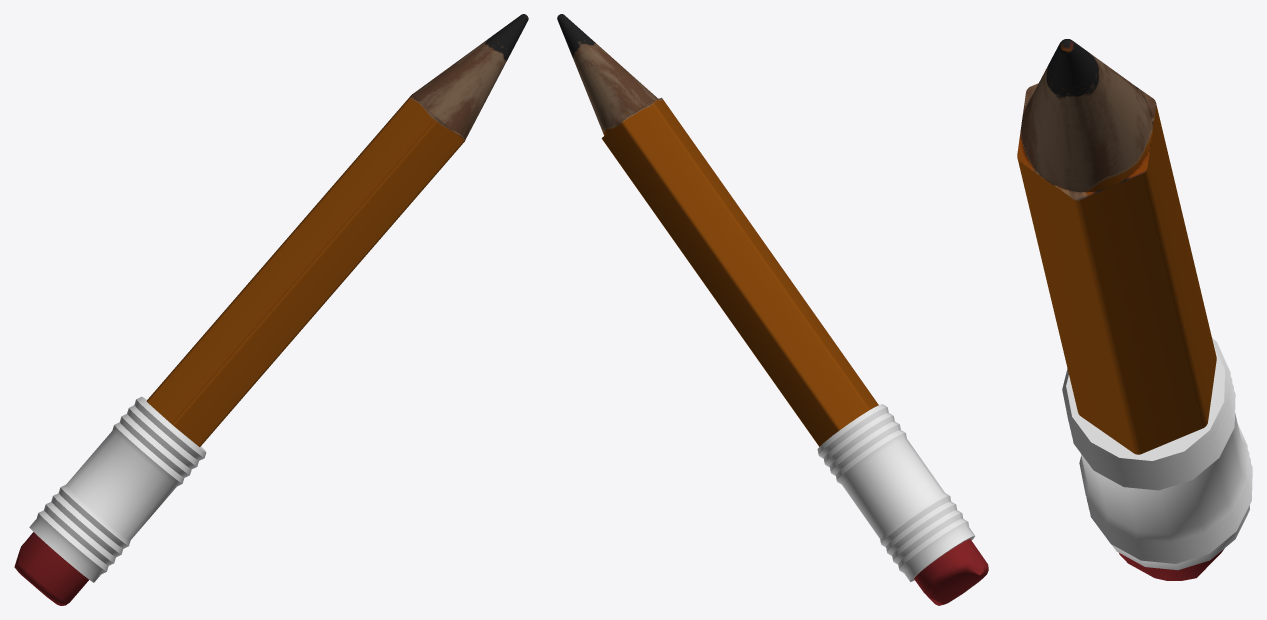
3 renders of one model, left to right at view 1: azimuth 30°, elevation 25°; view 2: azimuth 150°, elevation 25°; view 3: azimuth 270°, elevation 25°, orthographic. The views are drawn at different scales.
Parts seen in each view (by area): view 1: Da Pencil.001; view 2: Da Pencil.001; view 3: Da Pencil.001.
Part boxes in pixels (x1,y1,x2,y2): Da Pencil.001: [14, 14, 528, 605]; Da Pencil.001: [557, 14, 988, 605]; Da Pencil.001: [1017, 39, 1252, 580].
Size of the model in its own units: 1.13 by 1.12 by 0.2558.
2 materials, 1 textured.
